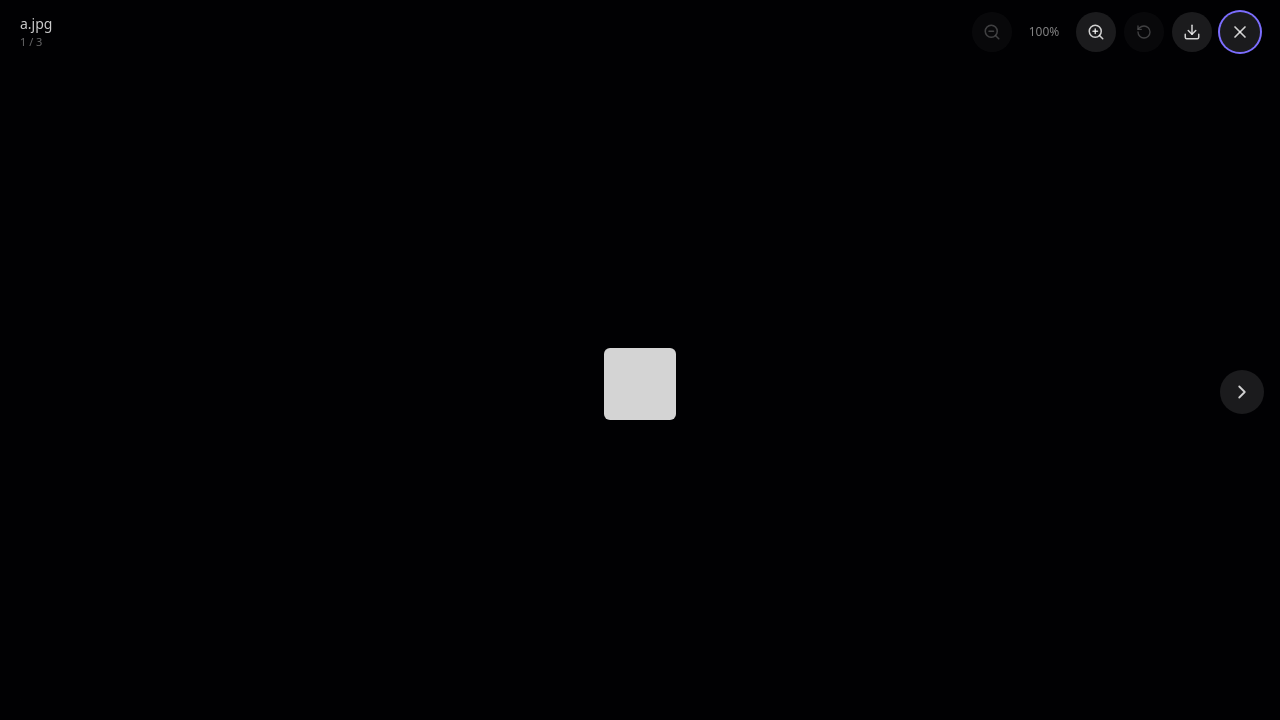
Test: ImageLightbox › resets zoom and shows the spinner again when switching images
Click the button named "zoom in".
click(1096, 32)  # box [1076,12,1116,52]
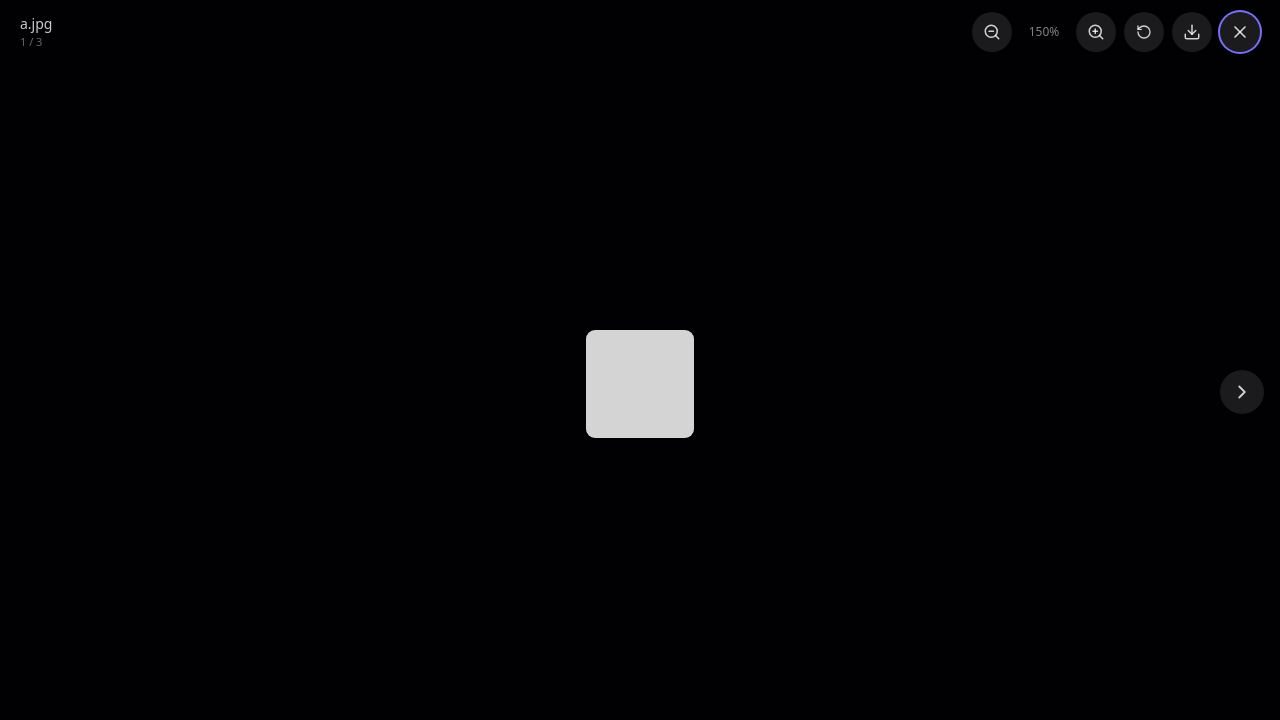
Click the button named "next image".
click(1242, 392)  # box [1220,370,1264,414]
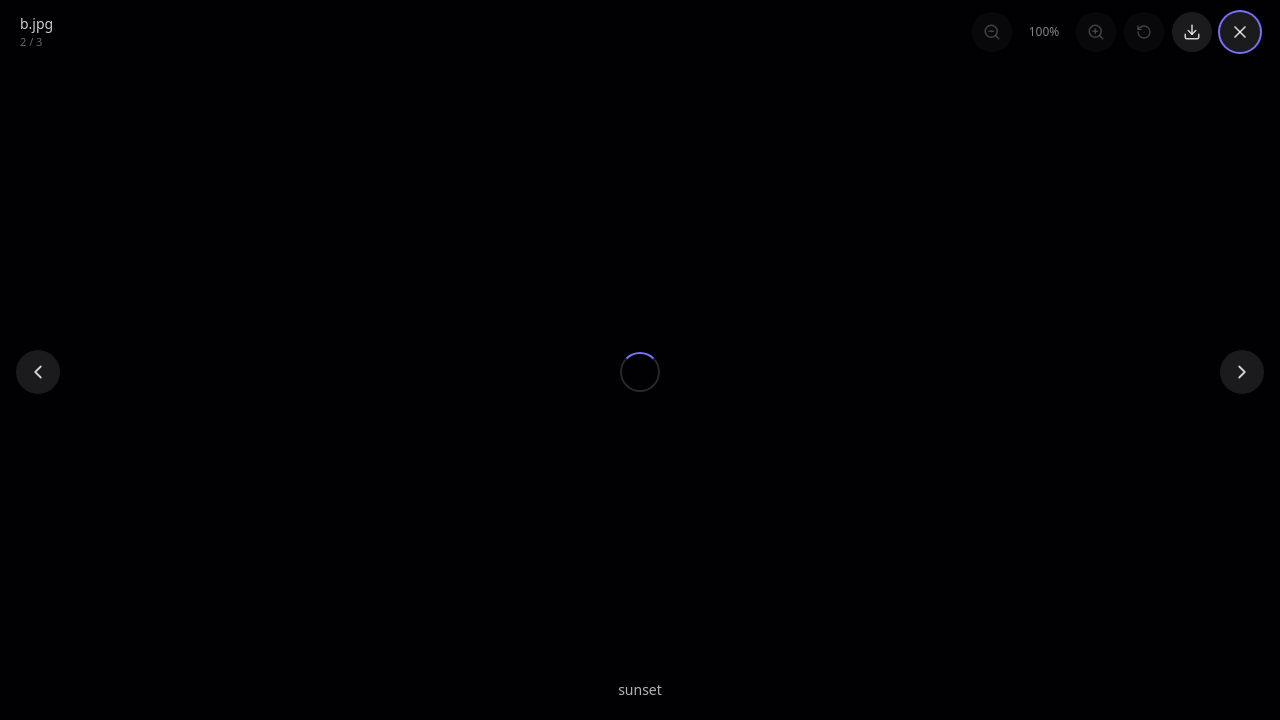
Check: the message named "loading image" is shown, box [620,352,660,392]
